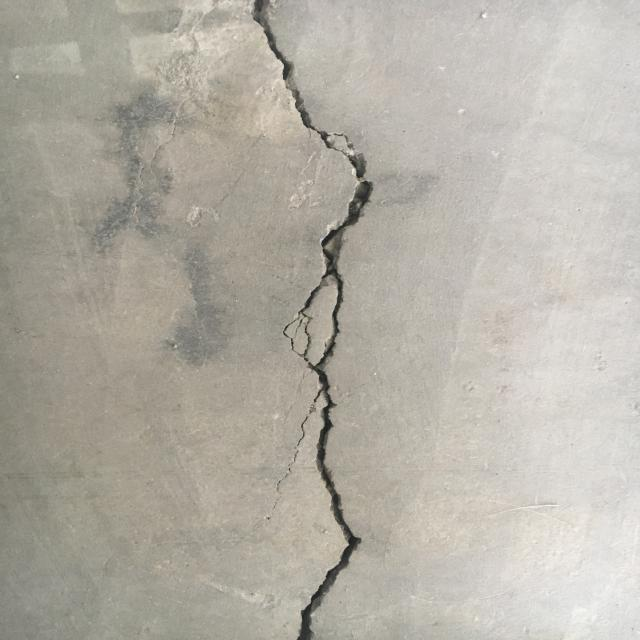Rachadura: (254, 0, 372, 640)
